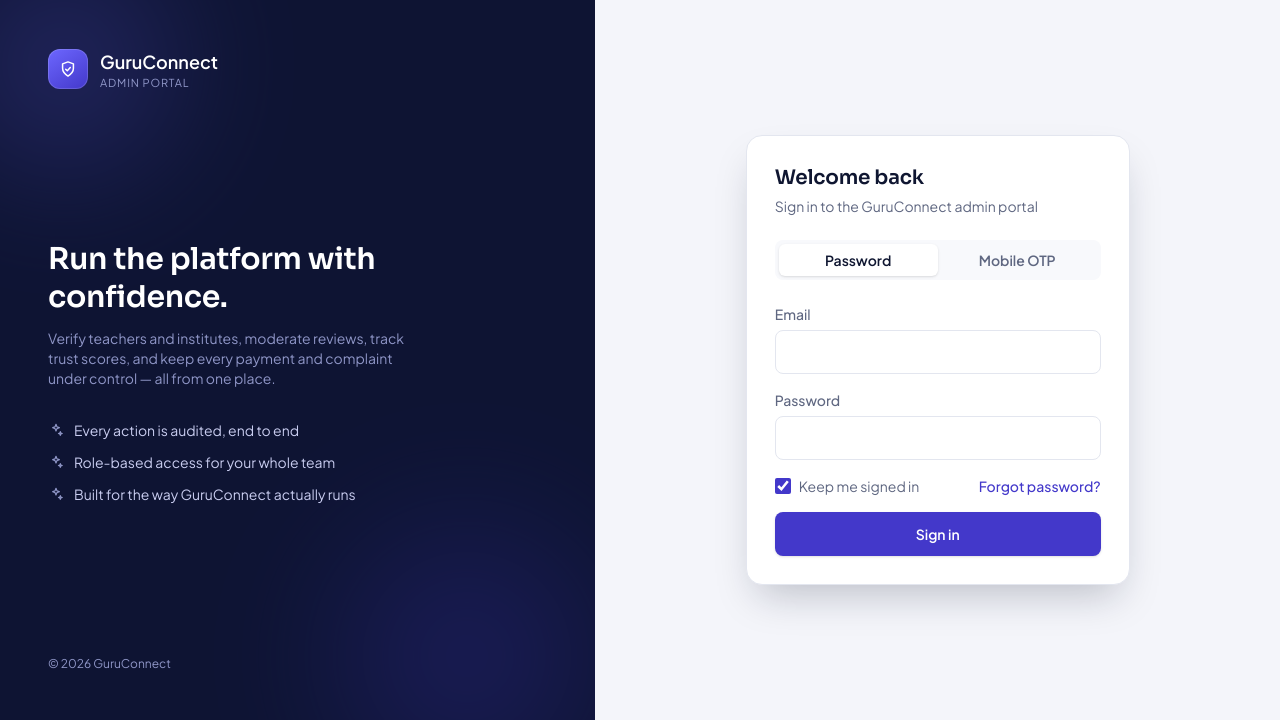
it: LoginPage › shows the dev OTP code on screen after requesting it, and fills the code from logs
Click the button "Mobile OTP" at coordinates (1017, 260), box [938,244,1097,276]
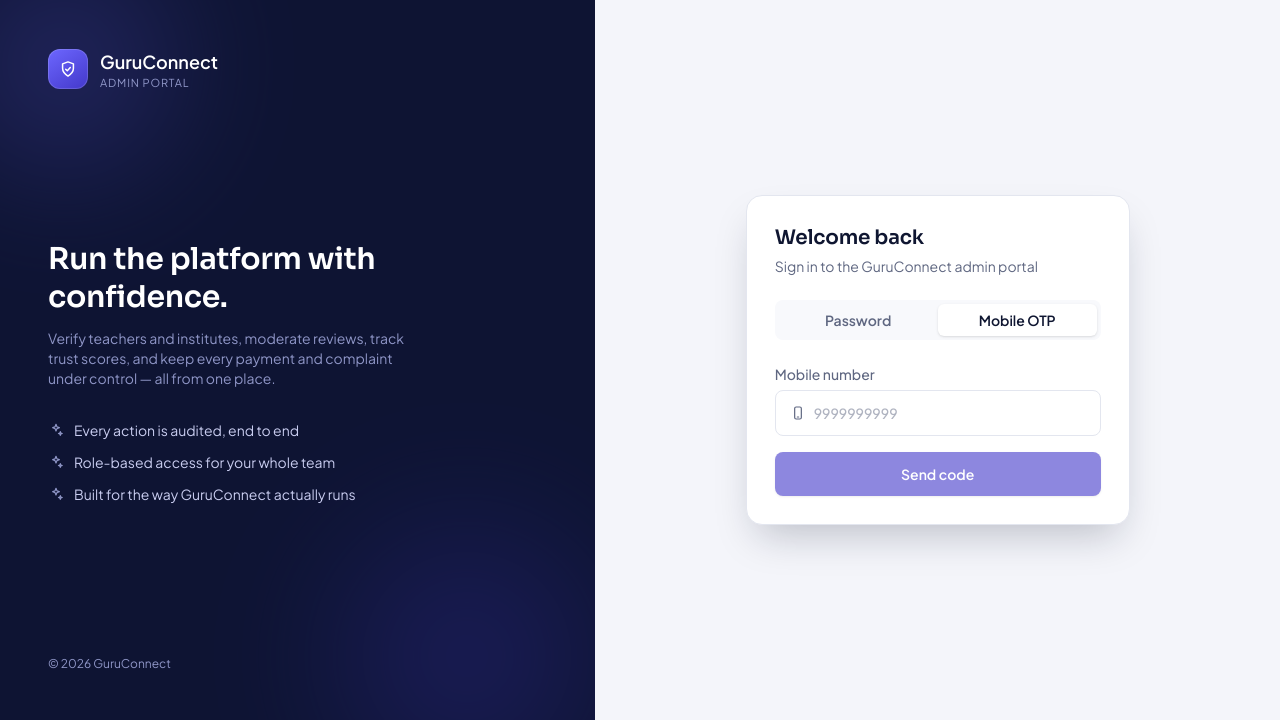
Type "+919999999999" into the field labelled "Mobile number" at coordinates (957, 413), box [814,391,1100,435]
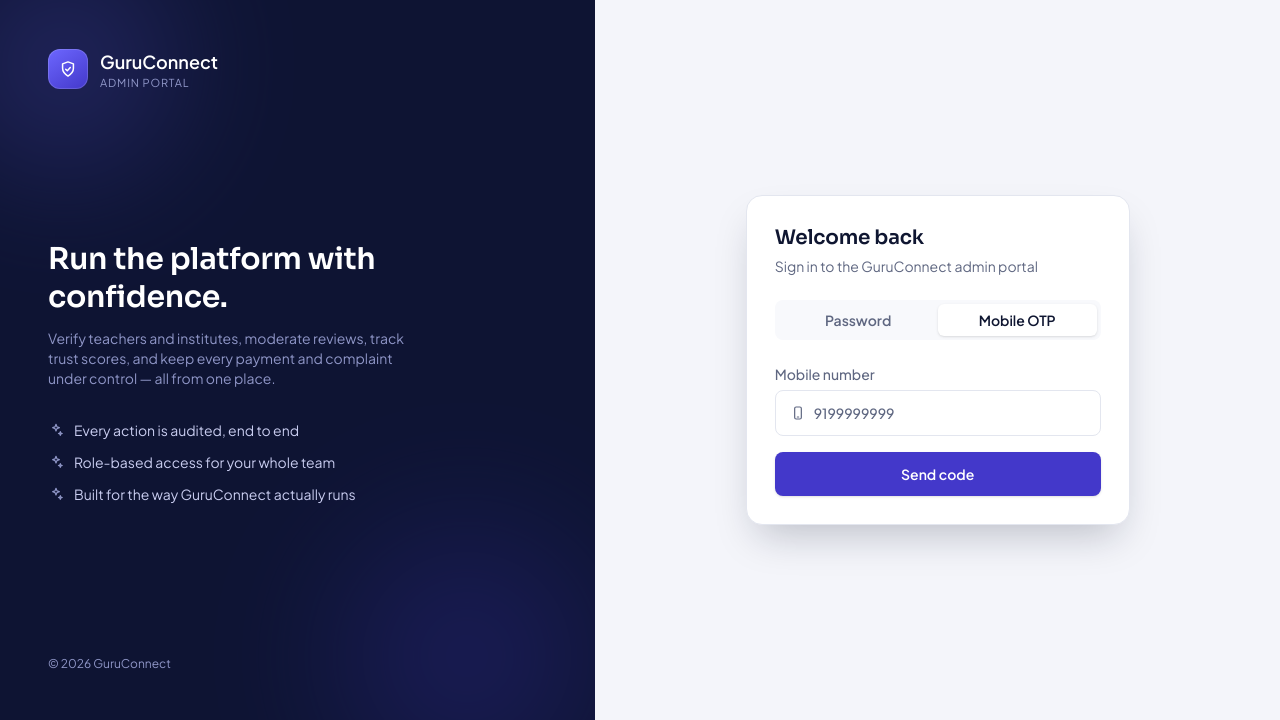
Click the button "Send code" at coordinates (938, 474), box [775,452,1101,496]
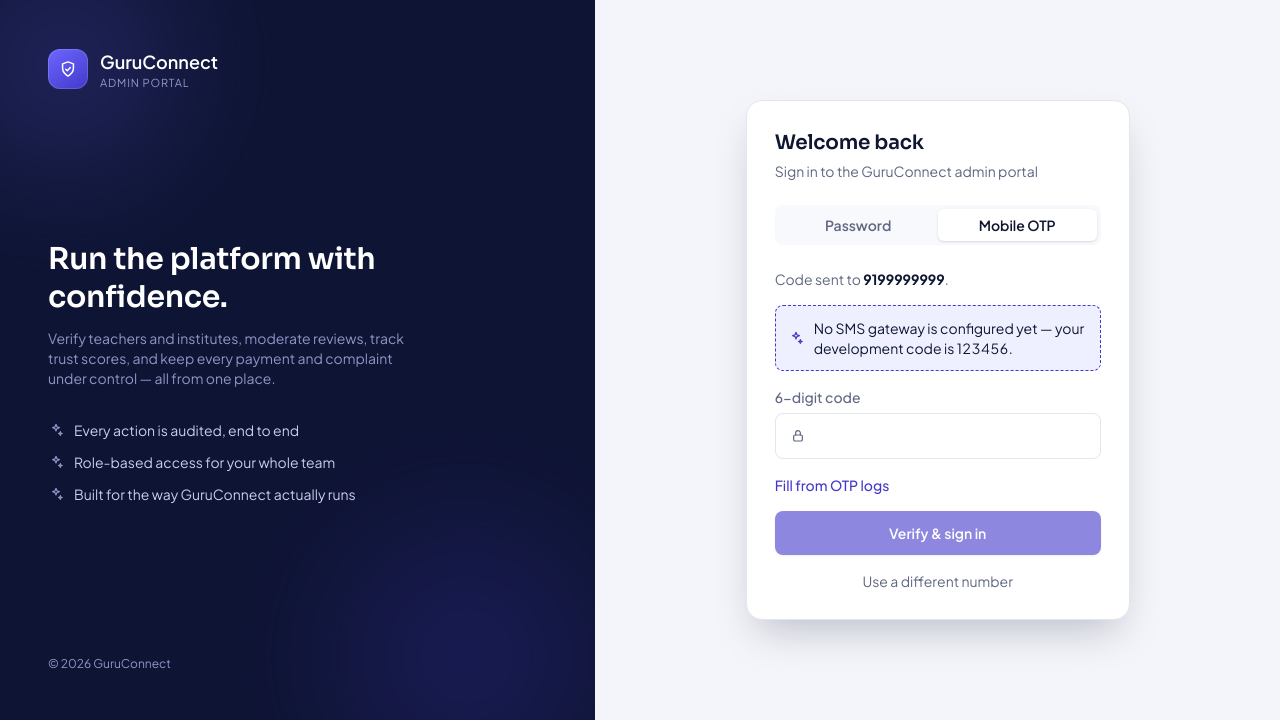
Now the text "123456" is shown, box [957,339,1009,357]
Click the button "Fill from OTP logs" at coordinates (832, 485), box [775,475,890,495]
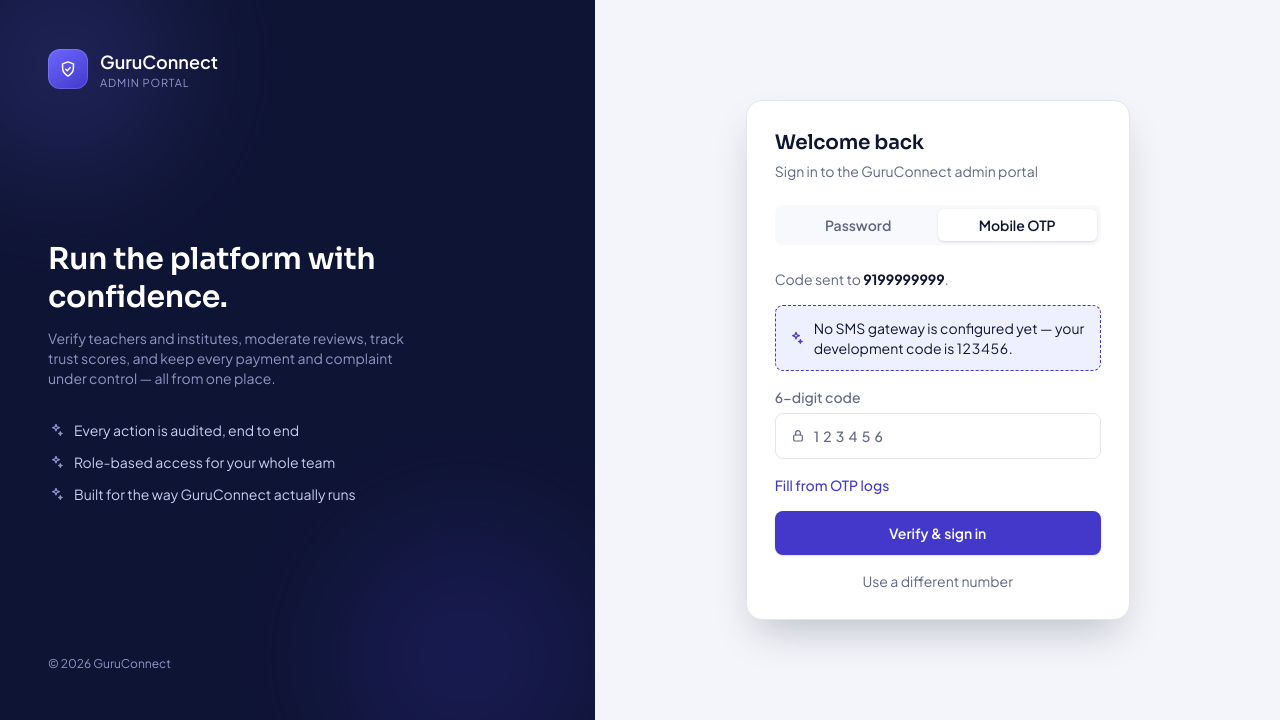
Now the field labelled "6-digit code" holds "123456", box [814,414,1100,458]
